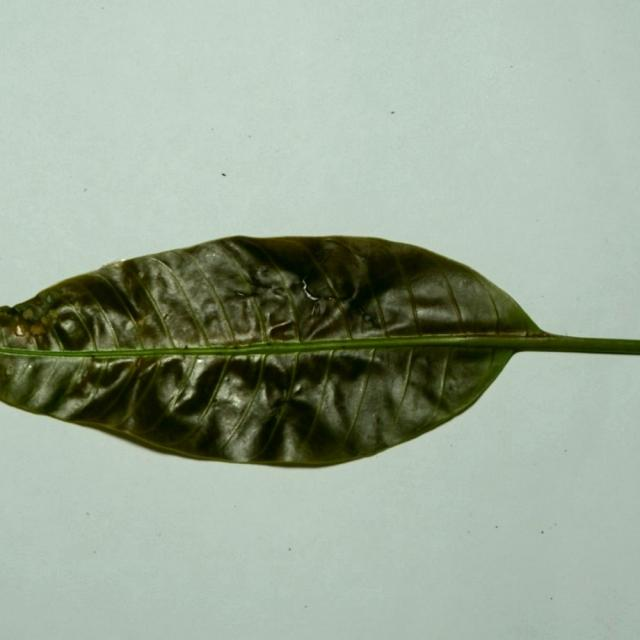Anthracnose: (247, 356, 346, 454), (113, 259, 202, 347), (2, 345, 99, 415), (299, 241, 363, 303), (294, 289, 358, 340), (246, 396, 296, 455), (144, 354, 190, 402), (46, 305, 93, 349), (266, 318, 299, 342)
Mango: (0, 238, 639, 470)
